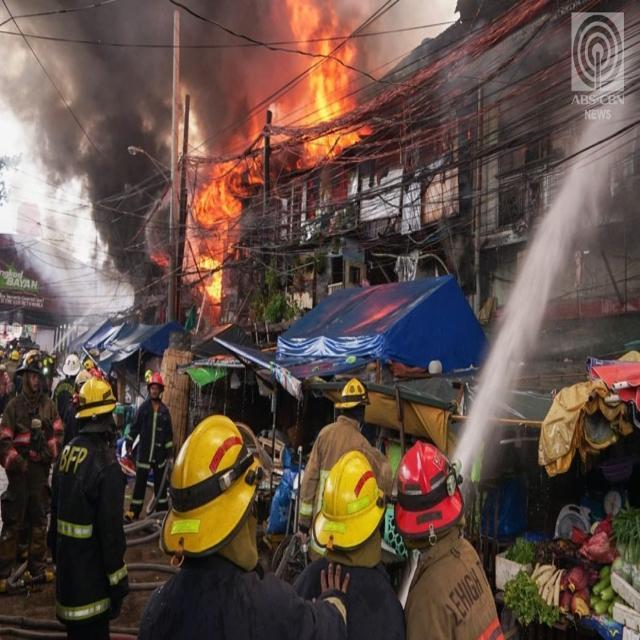Fire: (286, 0, 374, 156), (186, 157, 250, 300)
Smoke: (0, 0, 170, 305), (183, 0, 279, 139)
